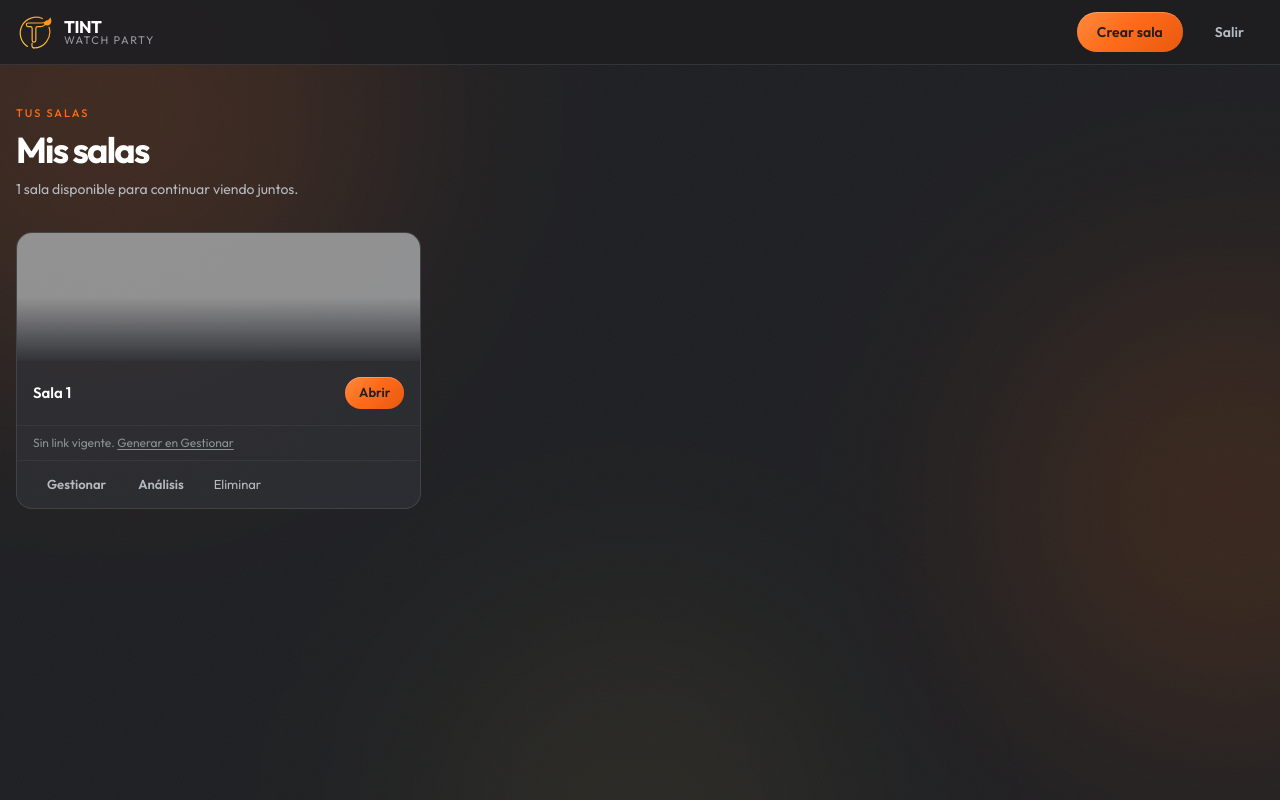
Test: Dashboard › no elimina si se cancela la confirmación
This screenshot has width=1280, height=800.
Expected: the text "Sala 1" is shown, [33, 382, 71, 404]
Click the button with aria-label "eliminar sala 1": (238, 485) [202, 469, 273, 500]
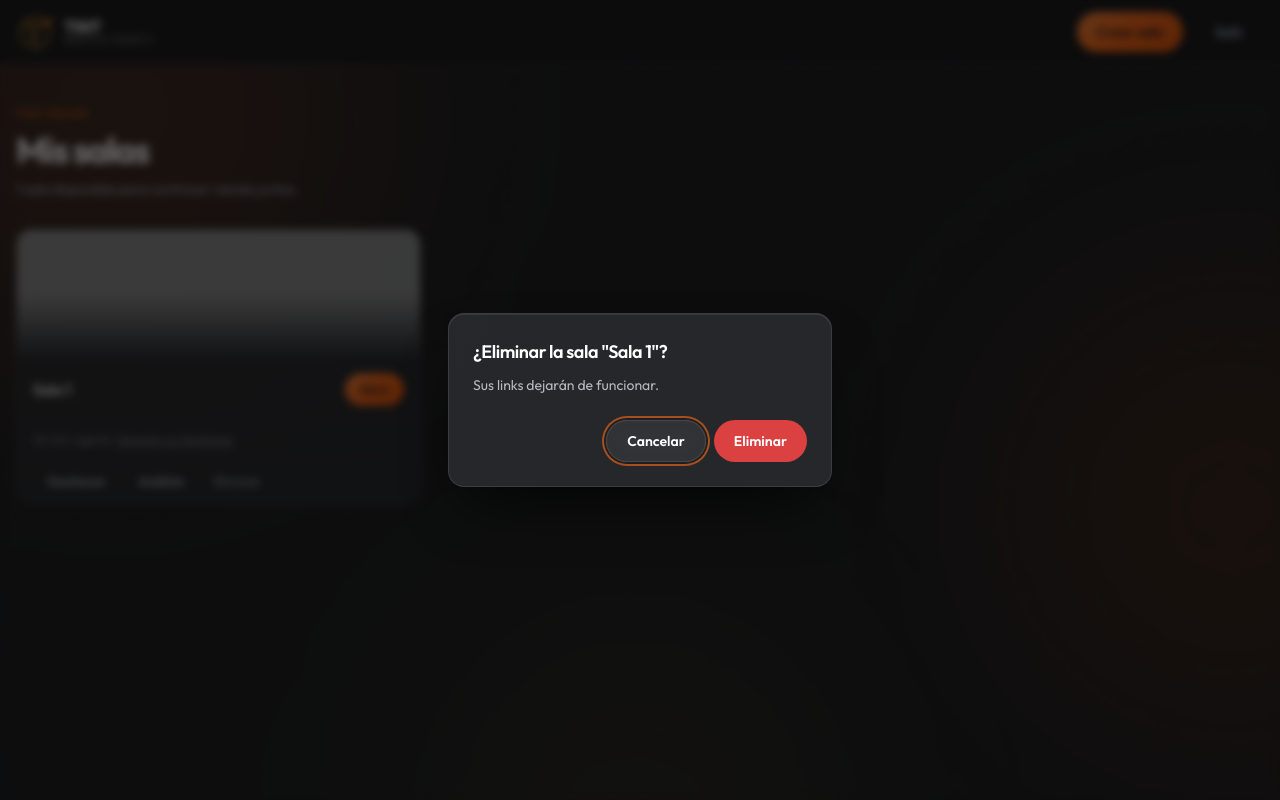
Click the button "Cancelar": (656, 441) [606, 420, 706, 462]
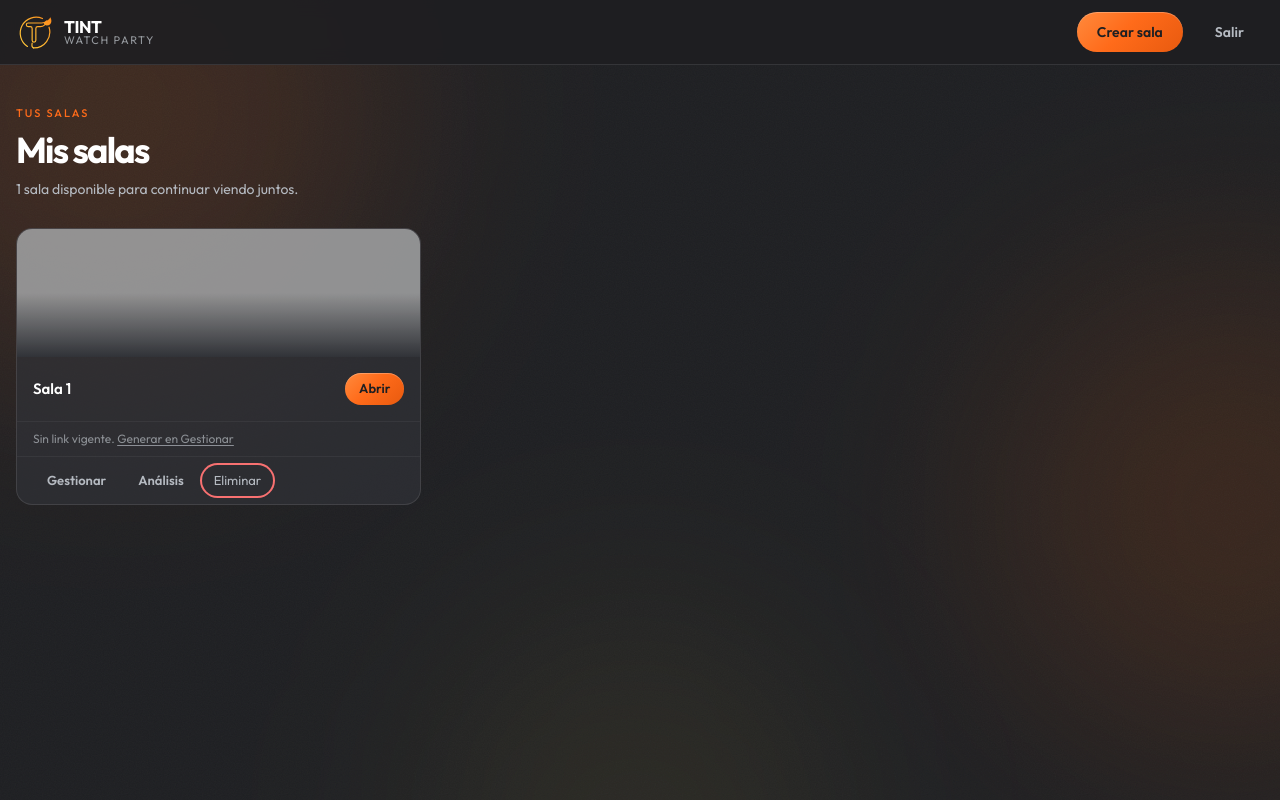
Expected: the text "Sala 1" is shown, [33, 378, 71, 400]
Now the dialog is gone
